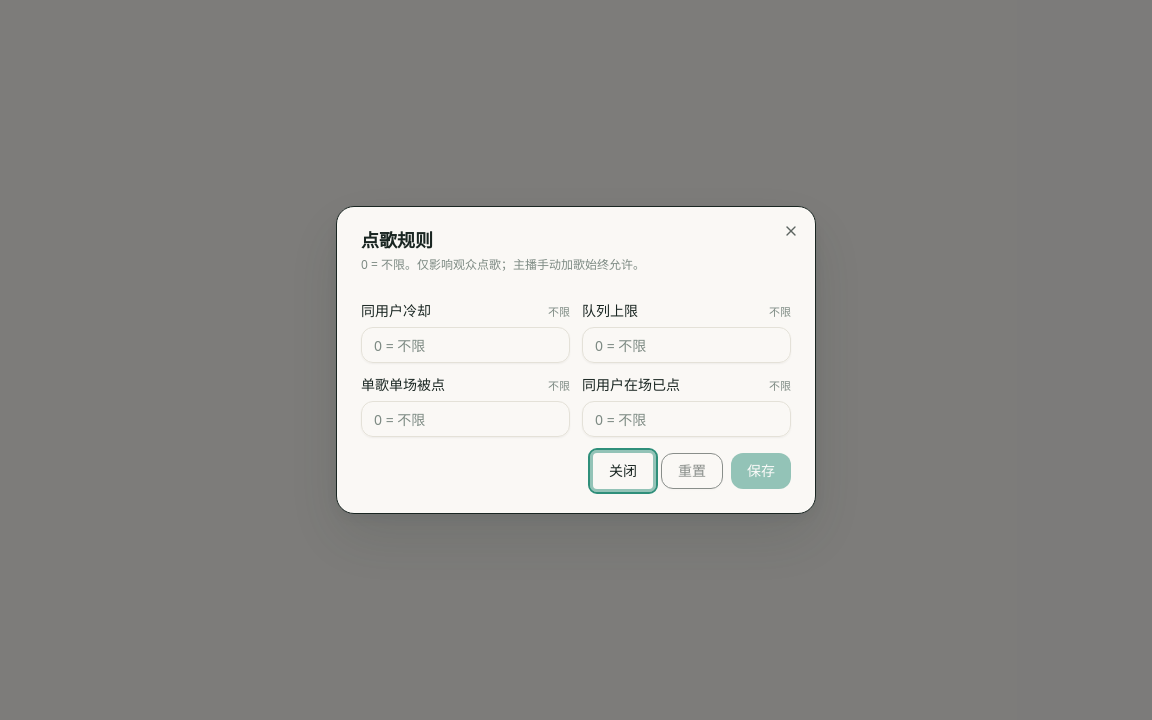
Test: PolicyDialog - 点歌条件配置（M2.4） › 输入数字 → draft 更新 + 保存按钮从 disabled 变 enabled
Check: the button with test id "policy-save-button" is disabled, box [731, 453, 791, 489]
Type "30" into the number field with test id "policy-input-cooldown_seconds_per_user" at (466, 345), box [361, 327, 570, 363]
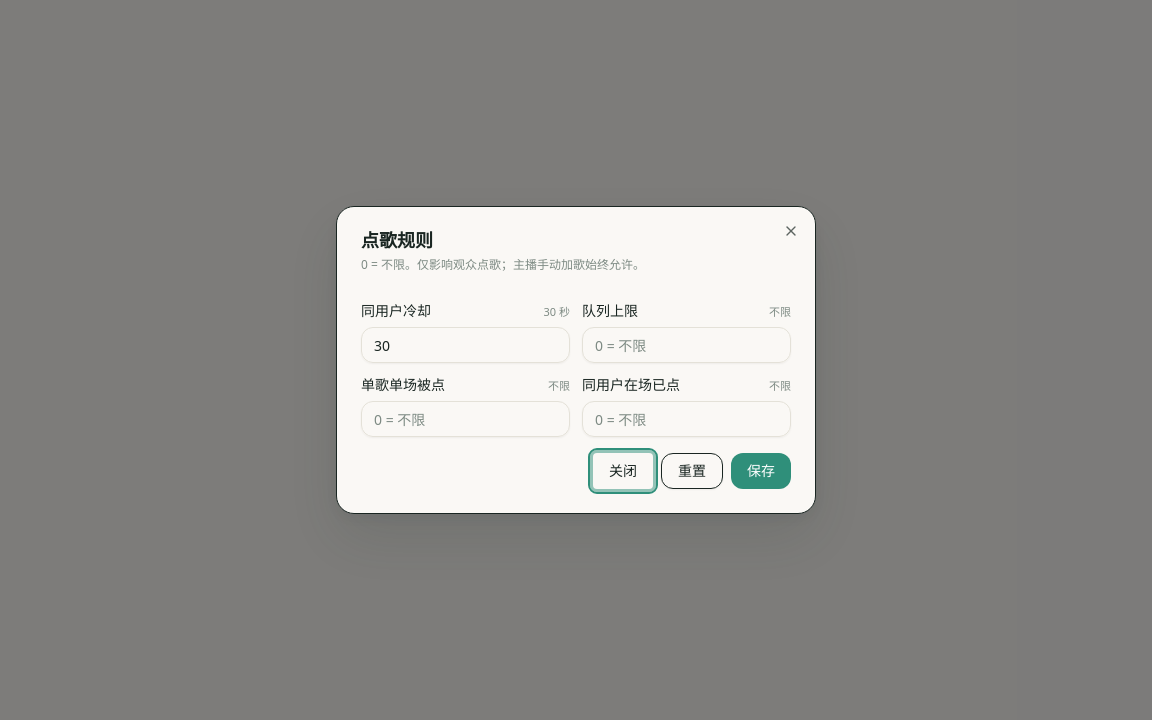
Check: the button with test id "policy-save-button" is enabled, box [731, 453, 791, 489]
